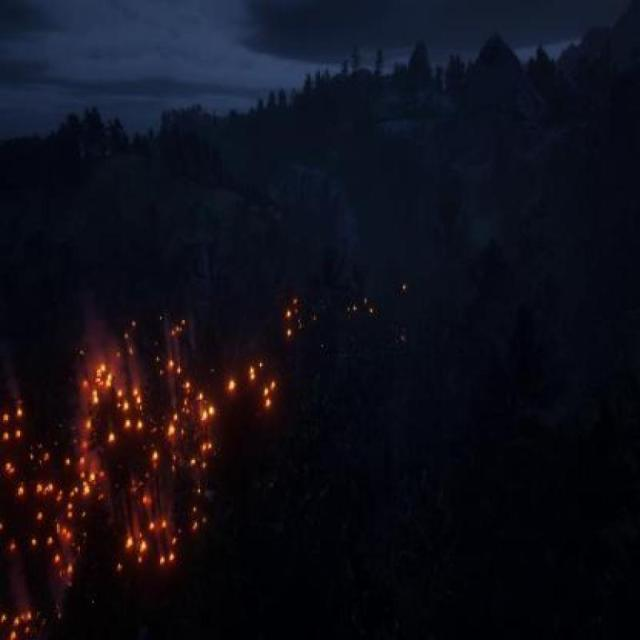Fire: (108, 338, 194, 572), (0, 398, 62, 640), (64, 354, 102, 582), (195, 358, 228, 508), (230, 341, 280, 414), (282, 279, 302, 349)
